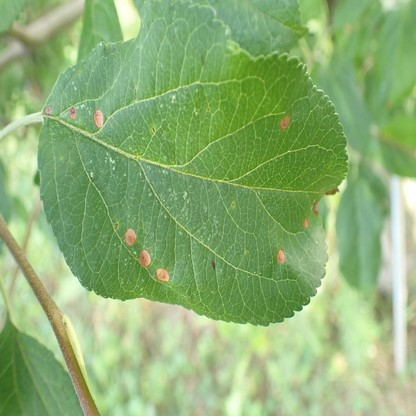frogeye: (314, 188, 340, 216), (279, 114, 291, 131), (138, 251, 150, 267), (275, 247, 286, 264), (94, 109, 103, 128), (157, 268, 169, 282), (126, 229, 136, 245), (302, 217, 309, 229), (70, 107, 76, 119), (45, 106, 52, 113)
